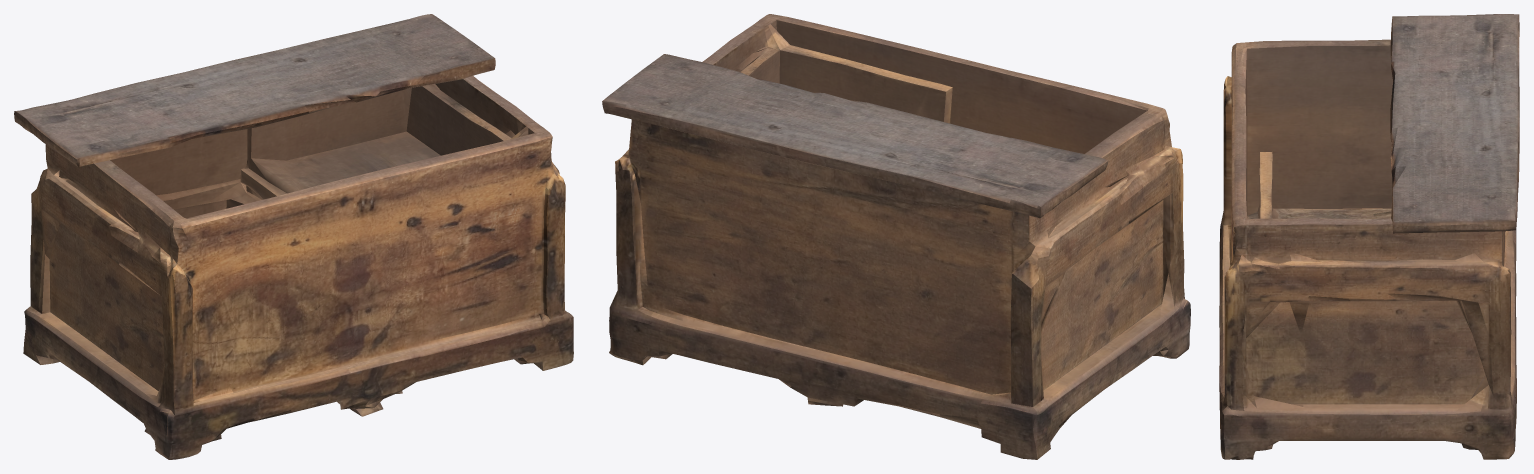
File: ballot-box-1946.glb
The picture shows the model from 3 angles, left to right: view 1: azimuth 30°, elevation 25°; view 2: azimuth 150°, elevation 25°; view 3: azimuth 270°, elevation 25°; orthographic projection. The views are drawn at different scales.
Parts seen in each view (by area): view 1: Mesh0; view 2: Mesh0; view 3: Mesh0.
Boxes of the visible parts, bbox=[...] form: Mesh0: bbox=[14, 14, 573, 459]; Mesh0: bbox=[602, 14, 1190, 459]; Mesh0: bbox=[1219, 14, 1519, 459].
Size of the model in its own units: 1.9 by 1.06 by 1.17.
Materials: 1 (1 with a texture image).
